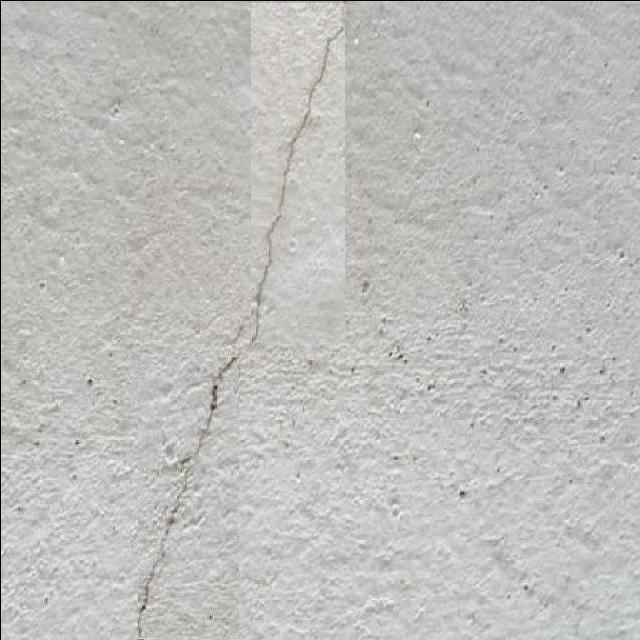crack: (127, 22, 344, 639)
